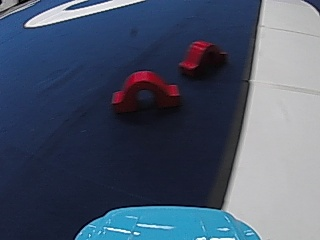bridge: (109, 66, 182, 113), (177, 37, 225, 80)
